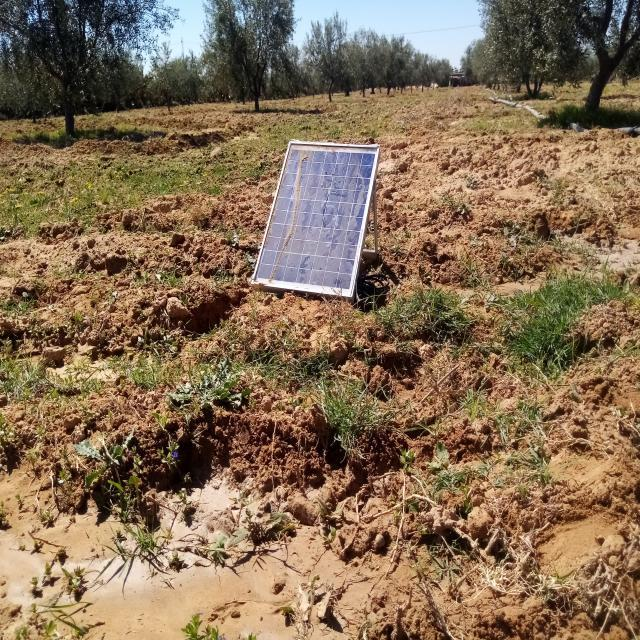faulty: (252, 142, 379, 297)
